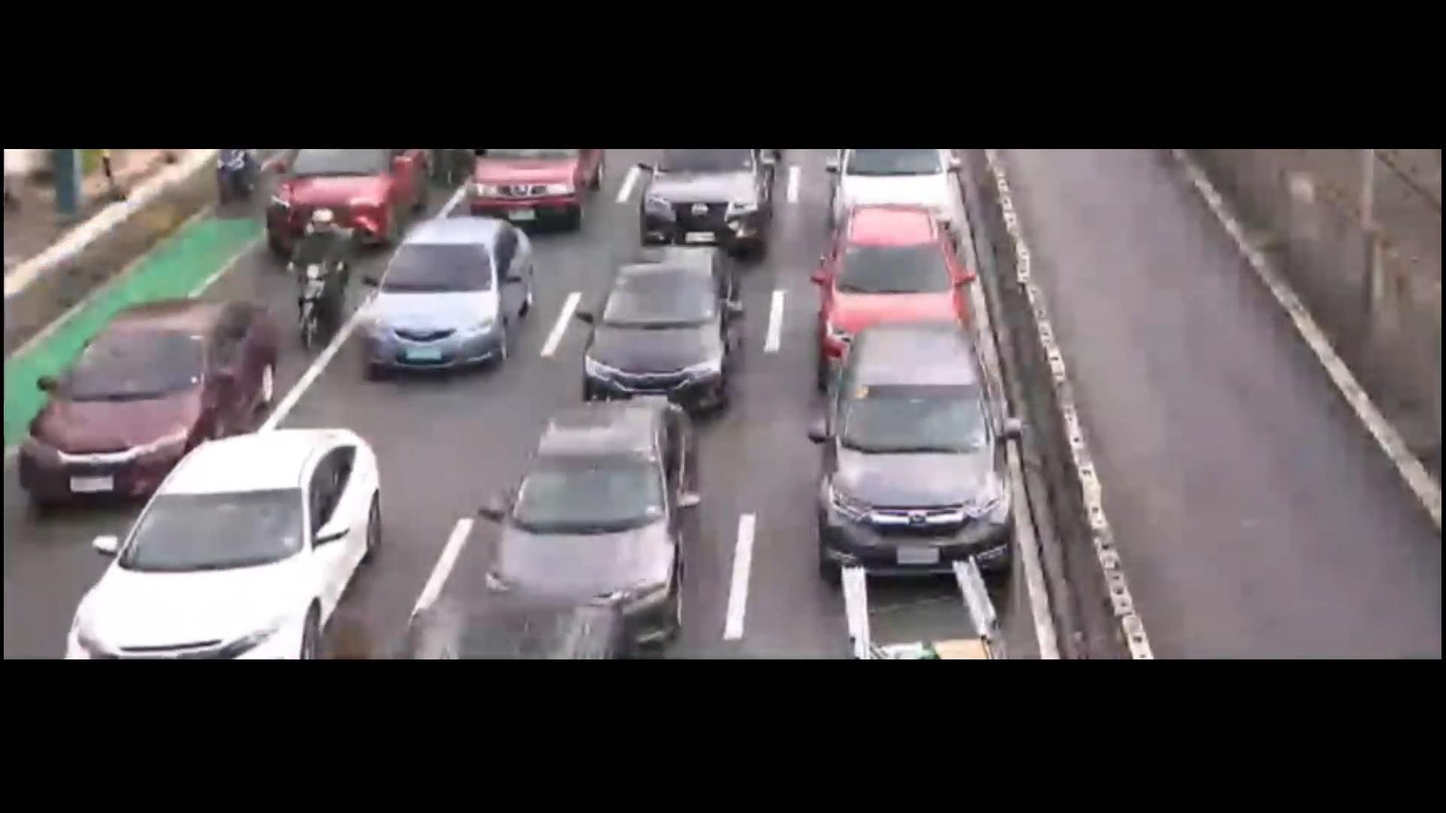Motorcycle: (286, 203, 350, 352)
SUV: (802, 331, 1015, 578), (815, 198, 990, 388), (250, 145, 433, 247), (635, 147, 783, 256)
Sedan: (56, 423, 378, 657), (493, 380, 693, 638), (17, 297, 275, 495), (574, 241, 753, 418), (363, 216, 533, 371)
